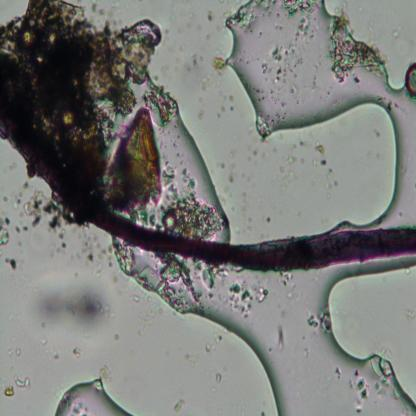Air bubble: (220, 2, 416, 218), (322, 269, 416, 407), (50, 379, 136, 414)
Background material: (0, 0, 162, 173), (110, 246, 216, 305), (105, 108, 163, 211), (24, 280, 111, 338), (189, 71, 236, 125), (160, 200, 223, 238), (14, 186, 60, 234), (221, 276, 270, 315), (144, 87, 176, 126), (176, 37, 204, 77), (233, 190, 254, 240), (134, 307, 162, 341), (275, 151, 297, 190), (215, 160, 238, 192), (316, 154, 338, 186), (35, 336, 62, 361), (240, 142, 263, 168), (303, 307, 331, 327), (352, 370, 368, 403), (179, 168, 198, 194), (204, 331, 224, 355), (162, 172, 179, 200), (99, 356, 114, 380), (0, 214, 10, 247), (10, 375, 32, 390), (276, 320, 286, 353), (212, 56, 226, 75), (178, 352, 198, 365), (72, 344, 84, 363), (10, 343, 24, 359), (5, 255, 18, 271), (213, 369, 222, 385), (174, 398, 185, 411), (260, 214, 274, 224), (315, 144, 326, 156), (3, 386, 14, 398)
Cotton: (44, 183, 416, 271)
Diatom: (324, 13, 385, 77), (405, 61, 416, 99)
